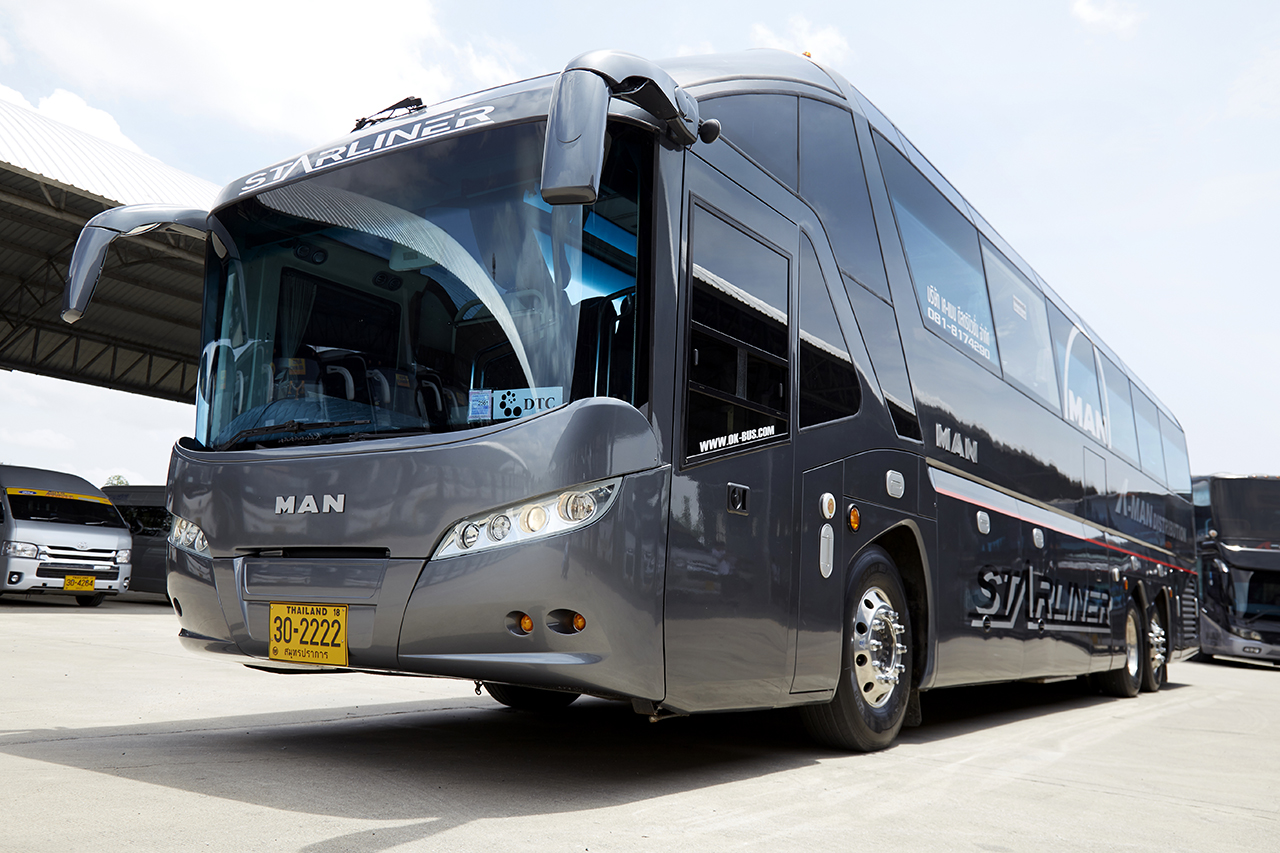bus: (167, 47, 1208, 751)
